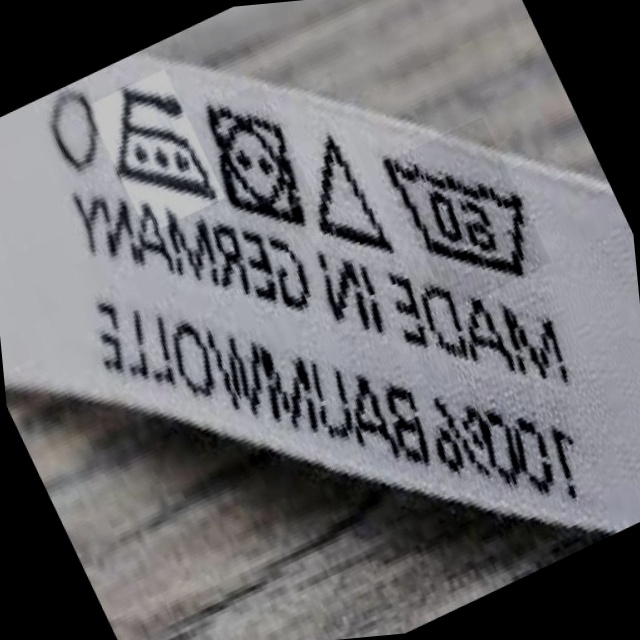60C: (380, 138, 545, 283)
bleach: (305, 126, 388, 260)
iron_high: (104, 75, 213, 210)
tumble_dry_medium: (206, 93, 305, 229)
